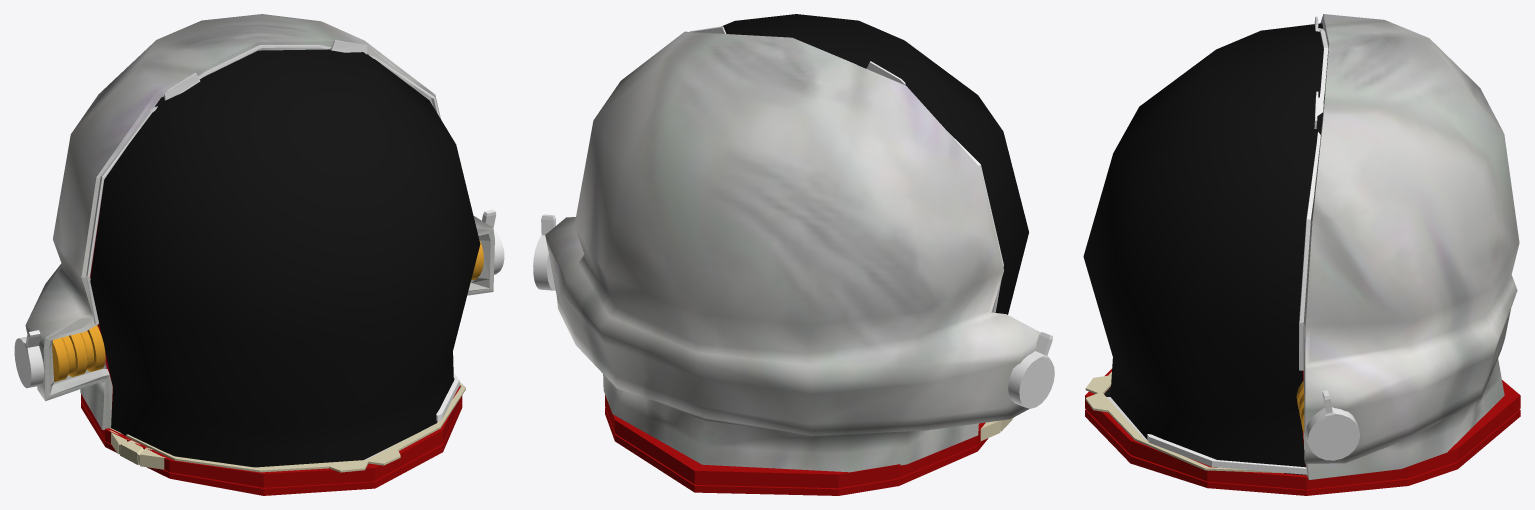
The model's file is helmet.FBX.
3 views of the same model, side by side, from view 1: azimuth 30°, elevation 25°; view 2: azimuth 150°, elevation 25°; view 3: azimuth 270°, elevation 25° (orthographic). The views are drawn at different scales.
Parts seen in each view (by area): view 1: AstronautShoeL; view 2: AstronautShoeL; view 3: AstronautShoeL.
Boxes of the visible parts, x1,y1,x2,y2 form: AstronautShoeL: [14, 14, 504, 495]; AstronautShoeL: [533, 14, 1054, 495]; AstronautShoeL: [1083, 14, 1520, 495].
Bounding box in the file's own units: 13.08 × 9.55 × 10.1.
